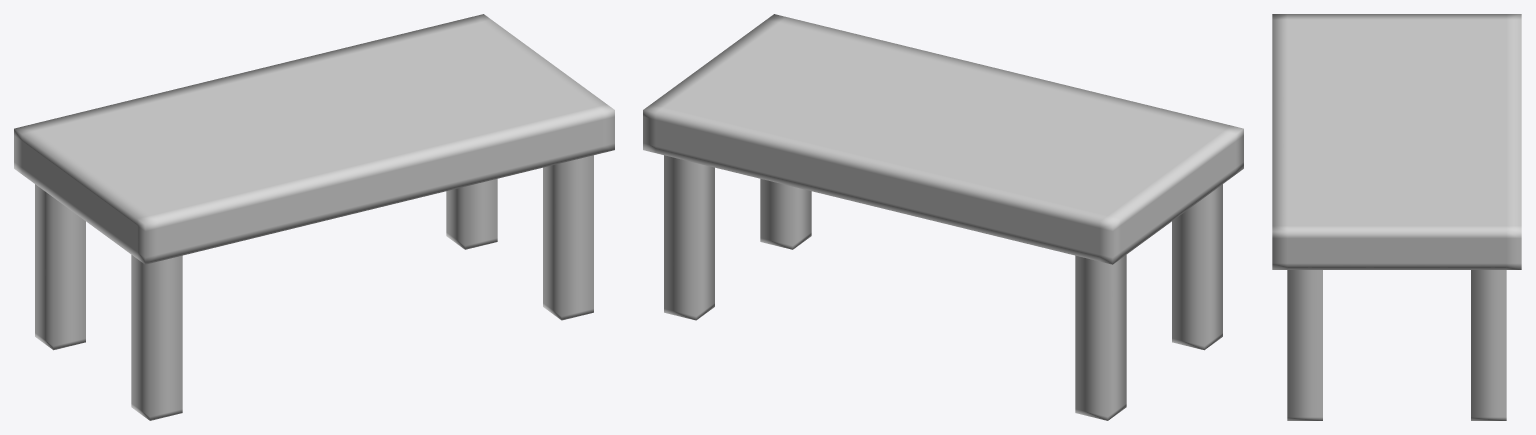
Rendered from KS_DIning_Table.fbx.
3 views of the same model, side by side, from view 1: azimuth 30°, elevation 25°; view 2: azimuth 150°, elevation 25°; view 3: azimuth 270°, elevation 25° (orthographic). The views are drawn at different scales.
Visible parts, largest first — view 1: KS_Dining_Table; view 2: KS_Dining_Table; view 3: KS_Dining_Table.
Boxes of the visible parts, x1,y1,x2,y2 form: KS_Dining_Table: (14, 14, 614, 420); KS_Dining_Table: (643, 14, 1243, 420); KS_Dining_Table: (1272, 14, 1521, 420).
Bounding box in the file's own units: 200 × 83.57 × 96.7.
